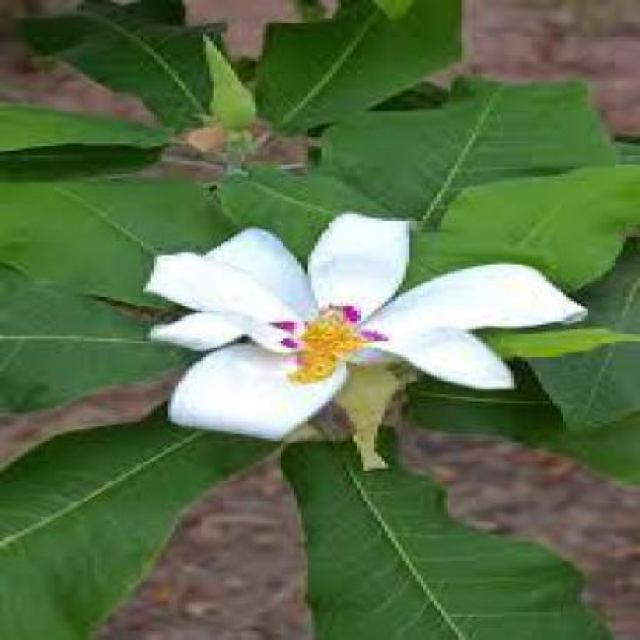flower: (123, 221, 592, 459)
